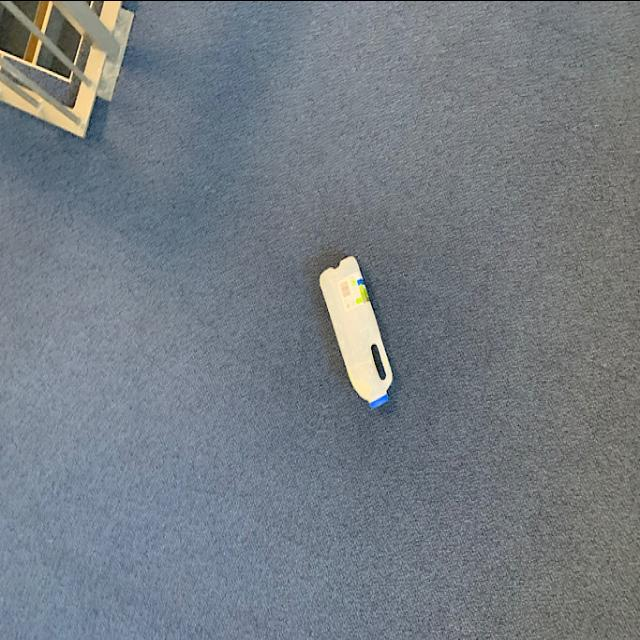HDPEM: (318, 246, 400, 410)
